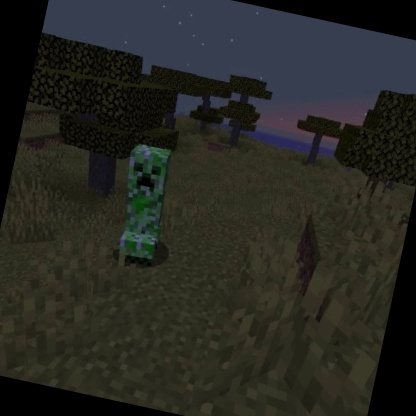creeper: (104, 137, 184, 276)
